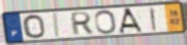A: (118, 7, 145, 34)
I: (148, 6, 158, 32), (53, 12, 62, 38)
O: (93, 9, 118, 35), (21, 14, 47, 39)
R: (70, 11, 94, 37)
